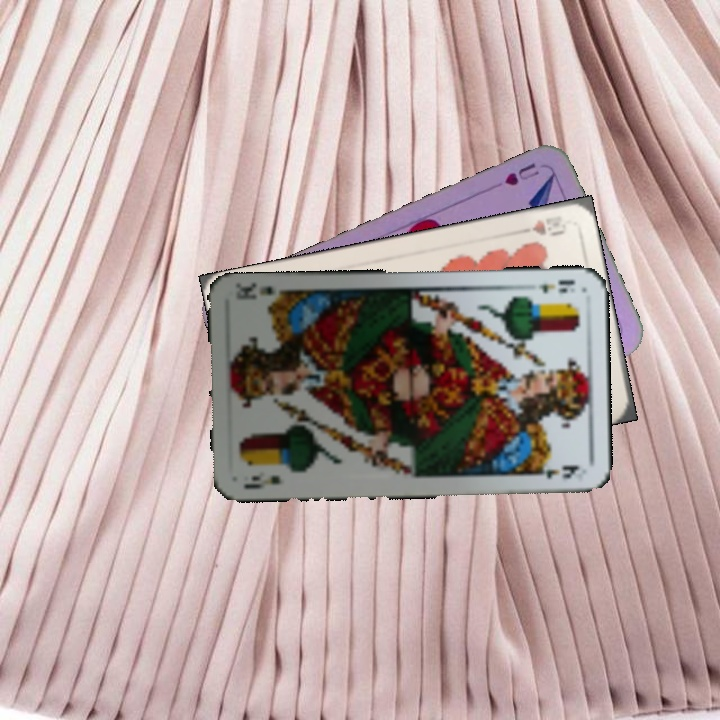EK: (241, 470, 284, 492), (535, 275, 577, 297)
H10: (528, 215, 568, 239)
HU: (500, 158, 542, 188)
